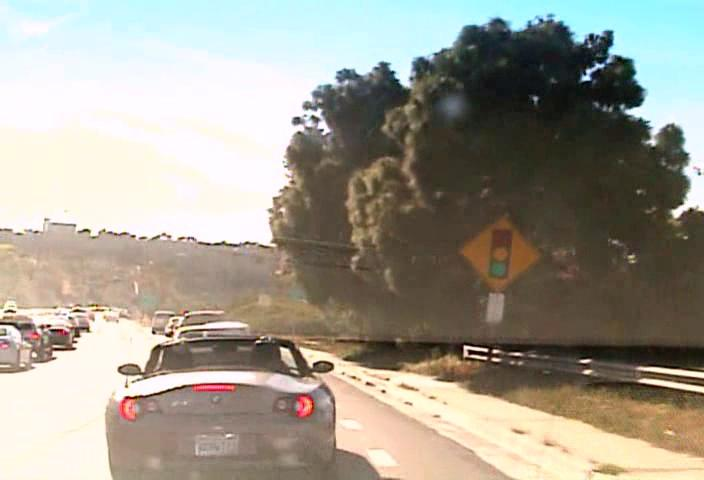signalAhead: (458, 214, 540, 291)
